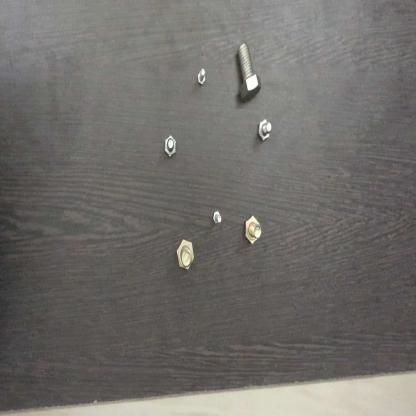Bolts: (235, 44, 264, 106), (172, 234, 198, 274), (242, 210, 263, 247), (253, 112, 275, 146), (161, 130, 180, 161), (195, 64, 208, 93), (210, 203, 222, 230)
